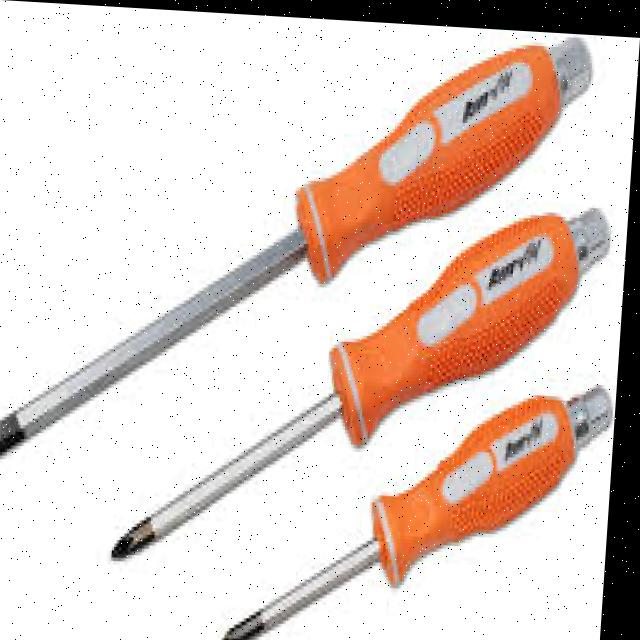Screwdriver: (0, 31, 593, 458), (119, 204, 614, 558), (235, 381, 619, 640)
